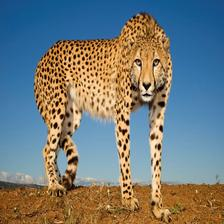Cheetah: (33, 10, 176, 224)
